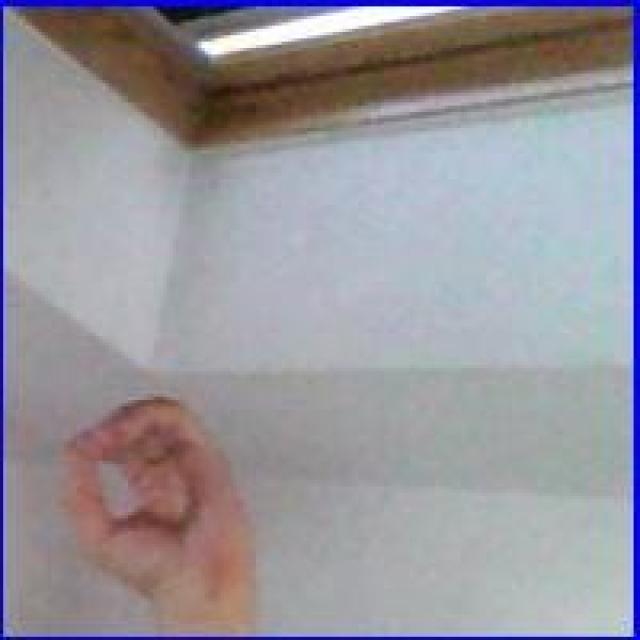O: (54, 397, 256, 618)
